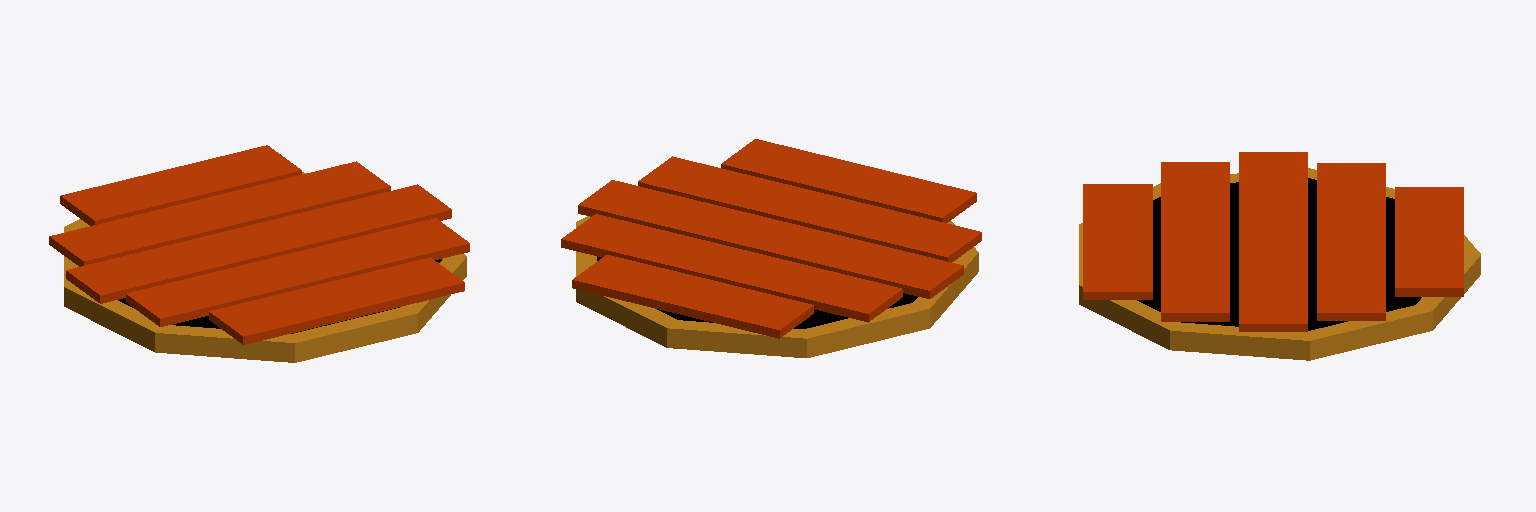
The model's file is Backdoor.obj.
3 views of the same model, side by side, from view 1: azimuth 30°, elevation 25°; view 2: azimuth 150°, elevation 25°; view 3: azimuth 270°, elevation 25° (orthographic).
Visible parts, largest first — view 1: Cube_Cube.001, Cube.003_Cube.004, Cube.001_Cube.002, Cylinder, Cube.004_Cube.005, Cube.002_Cube.003; view 2: Cube_Cube.001, Cube.001_Cube.002, Cube.003_Cube.004, Cylinder, Cube.002_Cube.003, Cube.004_Cube.005; view 3: Cylinder, Cube_Cube.001, Cube.003_Cube.004, Cube.001_Cube.002, Cube.004_Cube.005, Cube.002_Cube.003.
Part boxes in pixels (x1,y1,x2,y2): Cube_Cube.001: (66, 184, 451, 303); Cube.003_Cube.004: (126, 218, 469, 326); Cube.001_Cube.002: (49, 161, 390, 266); Cylinder: (64, 172, 466, 362); Cube.004_Cube.005: (209, 257, 464, 344); Cube.002_Cube.003: (60, 145, 301, 225); Cube_Cube.001: (578, 180, 963, 298); Cube.001_Cube.002: (561, 214, 902, 322); Cube.003_Cube.004: (638, 156, 981, 262); Cylinder: (576, 216, 978, 357); Cube.002_Cube.003: (572, 255, 813, 338); Cube.004_Cube.005: (721, 139, 976, 222); Cylinder: (1079, 168, 1480, 360); Cube_Cube.001: (1239, 152, 1307, 331); Cube.003_Cube.004: (1161, 162, 1229, 321); Cube.001_Cube.002: (1317, 163, 1385, 320); Cube.004_Cube.005: (1083, 184, 1152, 299); Cube.002_Cube.003: (1395, 187, 1463, 296).
Size of the model in its own units: 11.82 by 1.17 by 11.64.